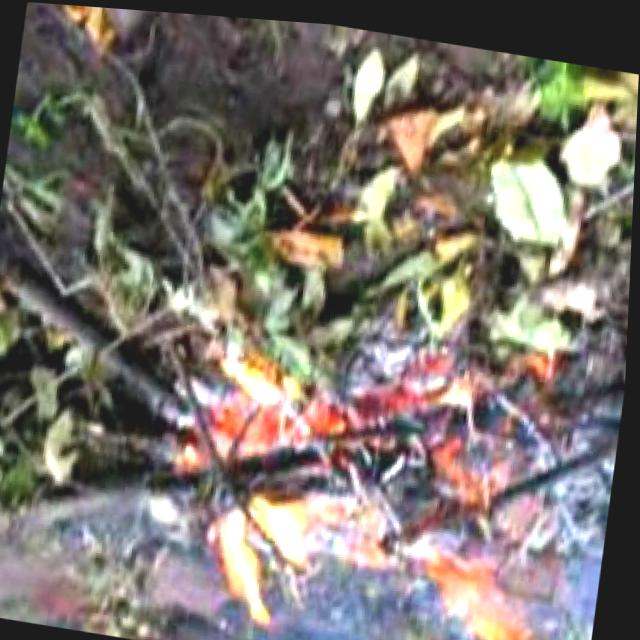helmet: (141, 328, 572, 640)
